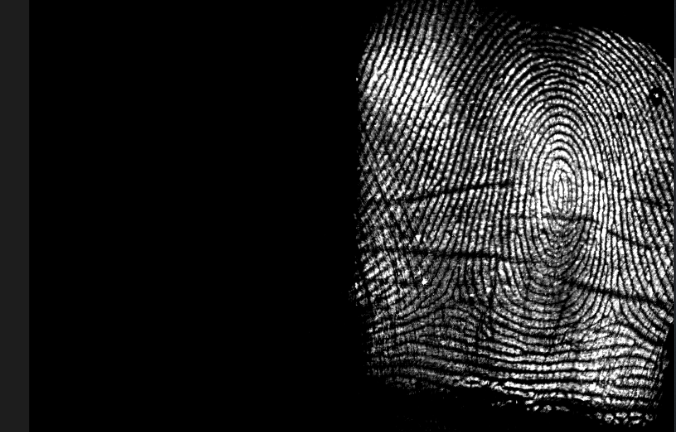deltas: (431, 262, 480, 320), (586, 289, 633, 340)
nucleo: (541, 154, 578, 218)
